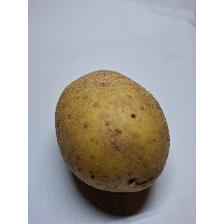Kartoffel: (52, 67, 172, 195)
